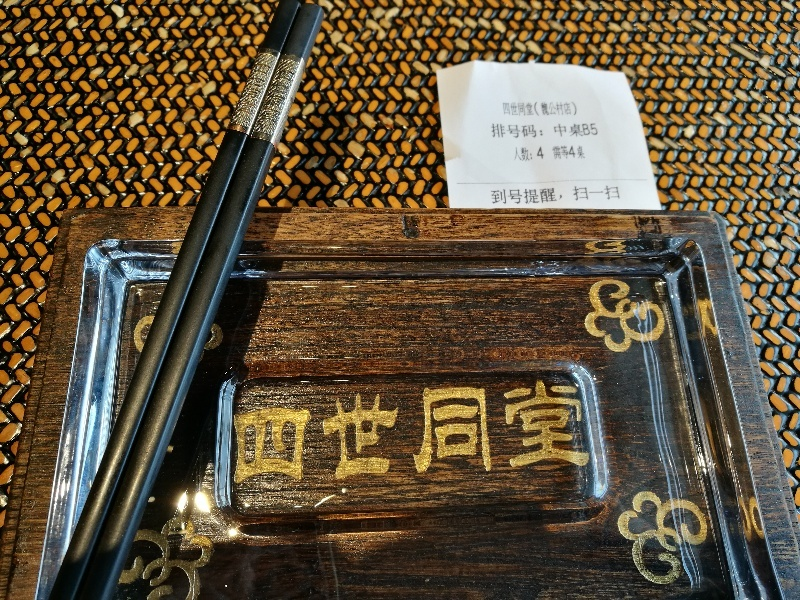text: (225, 375, 240, 485), (241, 375, 256, 485), (257, 375, 272, 485), (273, 375, 288, 485), (289, 375, 304, 485), (305, 375, 320, 485), (321, 375, 336, 485), (337, 375, 352, 485), (353, 375, 368, 485), (369, 375, 384, 485), (385, 375, 400, 485), (401, 375, 416, 485), (417, 375, 432, 485), (433, 375, 448, 485), (449, 375, 464, 485), (465, 375, 480, 485), (481, 375, 496, 485), (497, 375, 512, 485), (513, 375, 528, 485), (529, 375, 544, 485), (545, 375, 560, 485), (561, 375, 576, 485), (577, 375, 592, 485), (241, 60, 256, 119), (257, 60, 272, 119), (273, 68, 288, 126), (261, 68, 272, 126), (289, 68, 296, 126), (497, 184, 512, 206), (513, 184, 528, 206), (529, 184, 544, 206), (545, 184, 560, 206), (561, 184, 576, 206), (577, 184, 592, 206), (593, 184, 608, 206), (609, 184, 623, 206), (235, 60, 240, 119), (513, 101, 528, 119), (529, 101, 544, 119), (545, 101, 560, 119), (561, 101, 576, 119), (497, 122, 512, 139), (513, 122, 528, 139), (529, 122, 544, 139), (545, 122, 560, 139), (561, 122, 576, 139), (577, 122, 592, 139), (529, 147, 545, 162), (513, 147, 528, 162), (561, 145, 576, 160), (593, 375, 595, 485), (273, 60, 276, 119), (503, 101, 512, 119), (490, 184, 496, 206), (552, 145, 560, 160), (577, 145, 585, 160), (490, 122, 496, 139), (593, 122, 599, 139), (577, 101, 578, 119)
